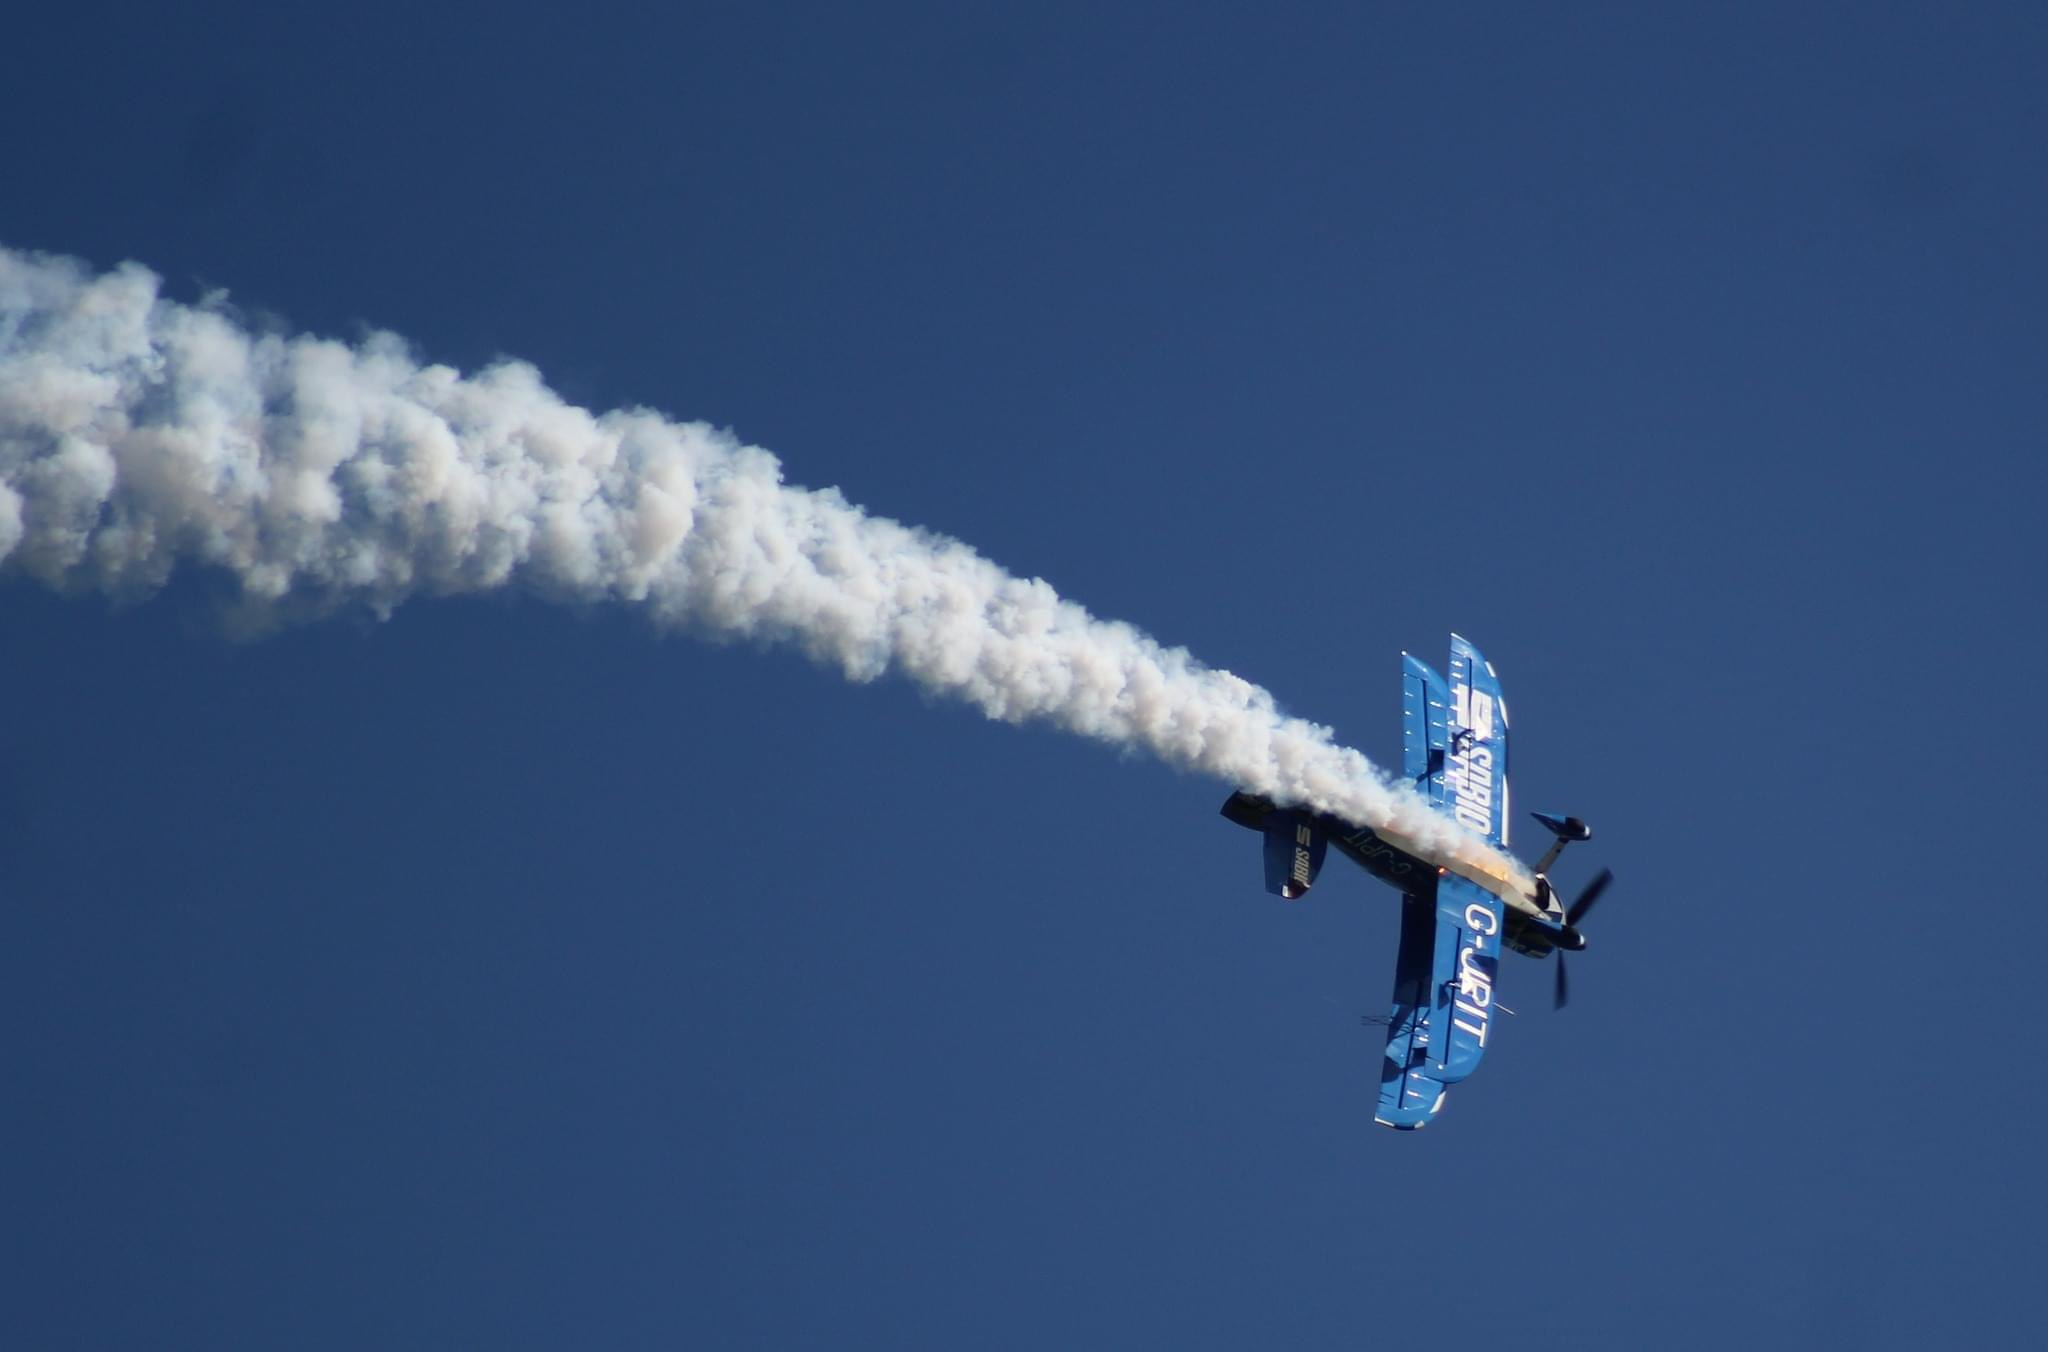aeroplane: (1219, 632, 1615, 1150)
